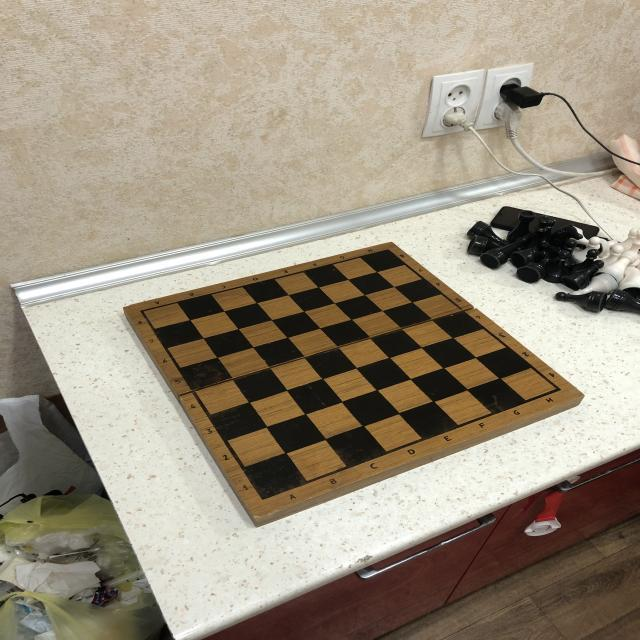chess-table-corners: (252, 492, 278, 508), (548, 384, 567, 396), (133, 305, 152, 317), (380, 244, 394, 256)
